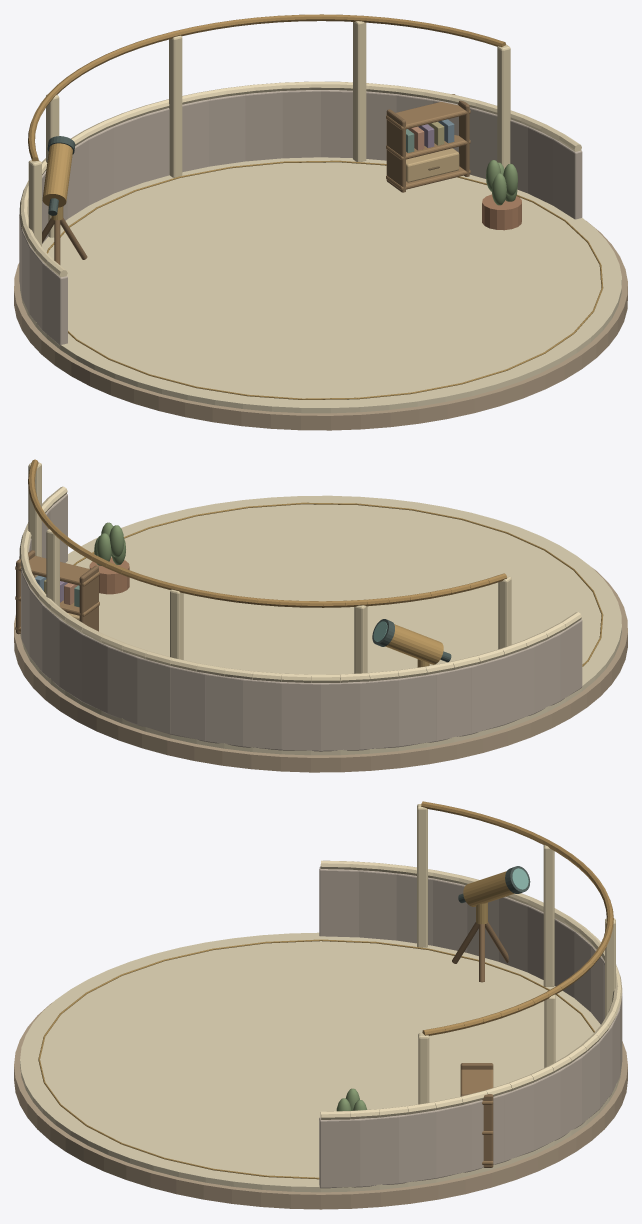
Rendered from ai-observatory.glb.
3 renders of one model, top to bottom at view 1: azimuth 30°, elevation 25°; view 2: azimuth 150°, elevation 25°; view 3: azimuth 270°, elevation 25°, orthographic.
Visible parts, largest first — view 1: ai-observatory; view 2: ai-observatory; view 3: ai-observatory.
Part boxes in pixels (x1,y1,x2,y2): ai-observatory: (14, 14, 627, 430); ai-observatory: (14, 459, 627, 772); ai-observatory: (14, 801, 627, 1209).
Size of the model in its own units: 12.2 by 3.59 by 12.2.
